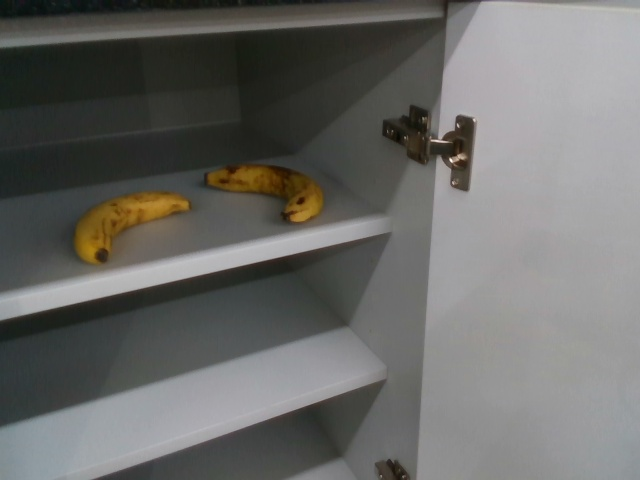banana: (64, 190, 189, 267), (200, 162, 326, 224)
